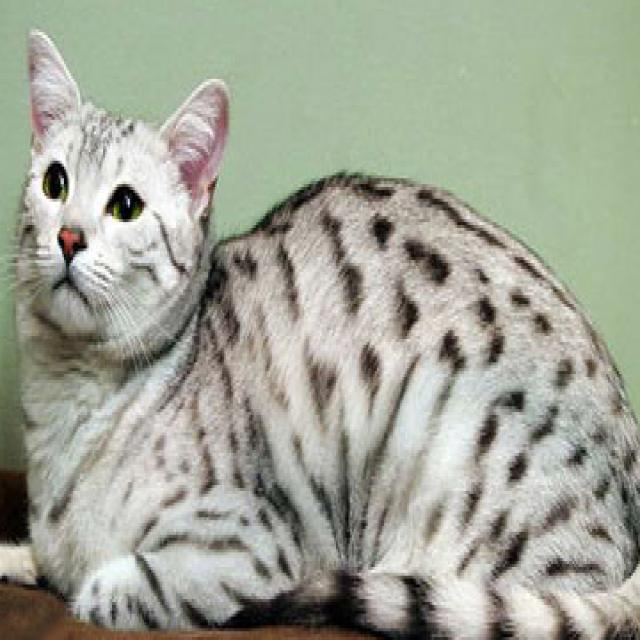Egyptian Mau: (0, 23, 640, 640)
